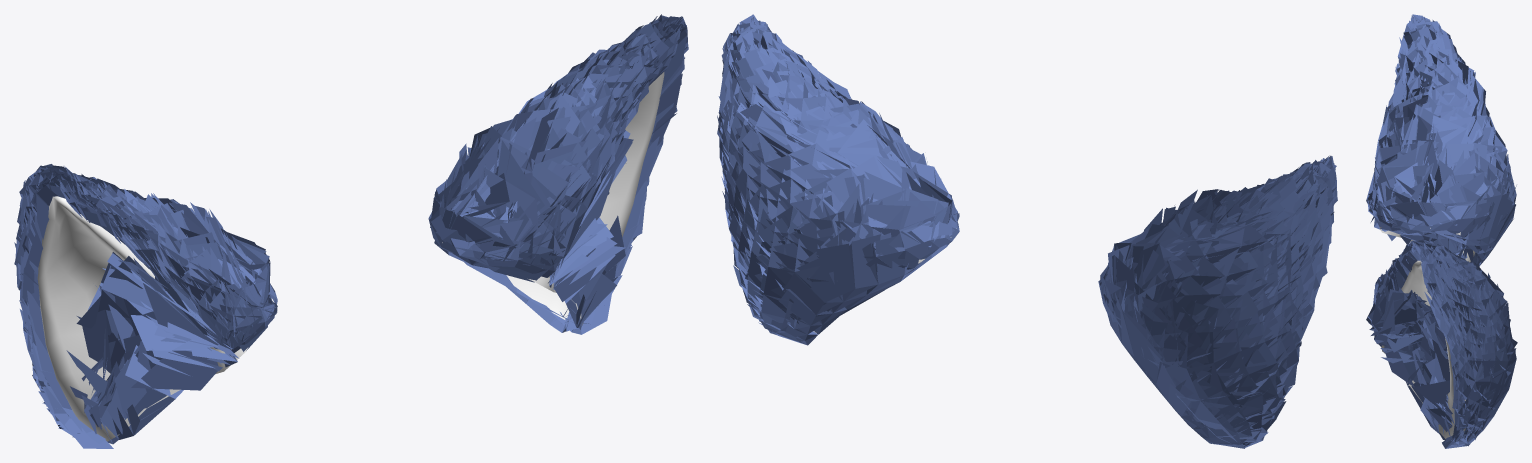
The model's file is SM_Ears_Fur_2.fbx.
The picture shows the model from 3 angles, left to right: view 1: azimuth 30°, elevation 25°; view 2: azimuth 150°, elevation 25°; view 3: azimuth 270°, elevation 25°; orthographic projection. The views are drawn at different scales.
Parts seen in each view (by area): view 1: Ears_5_Fur; view 2: Ears_5_Fur; view 3: Ears_5_Fur.
Boxes of the visible parts, x1,y1,x2,y2 form: Ears_5_Fur: [14, 14, 688, 448]; Ears_5_Fur: [717, 14, 1337, 448]; Ears_5_Fur: [1366, 14, 1517, 448].
Bounding box in the file's own units: 17.5 × 7.94 × 4.68.
